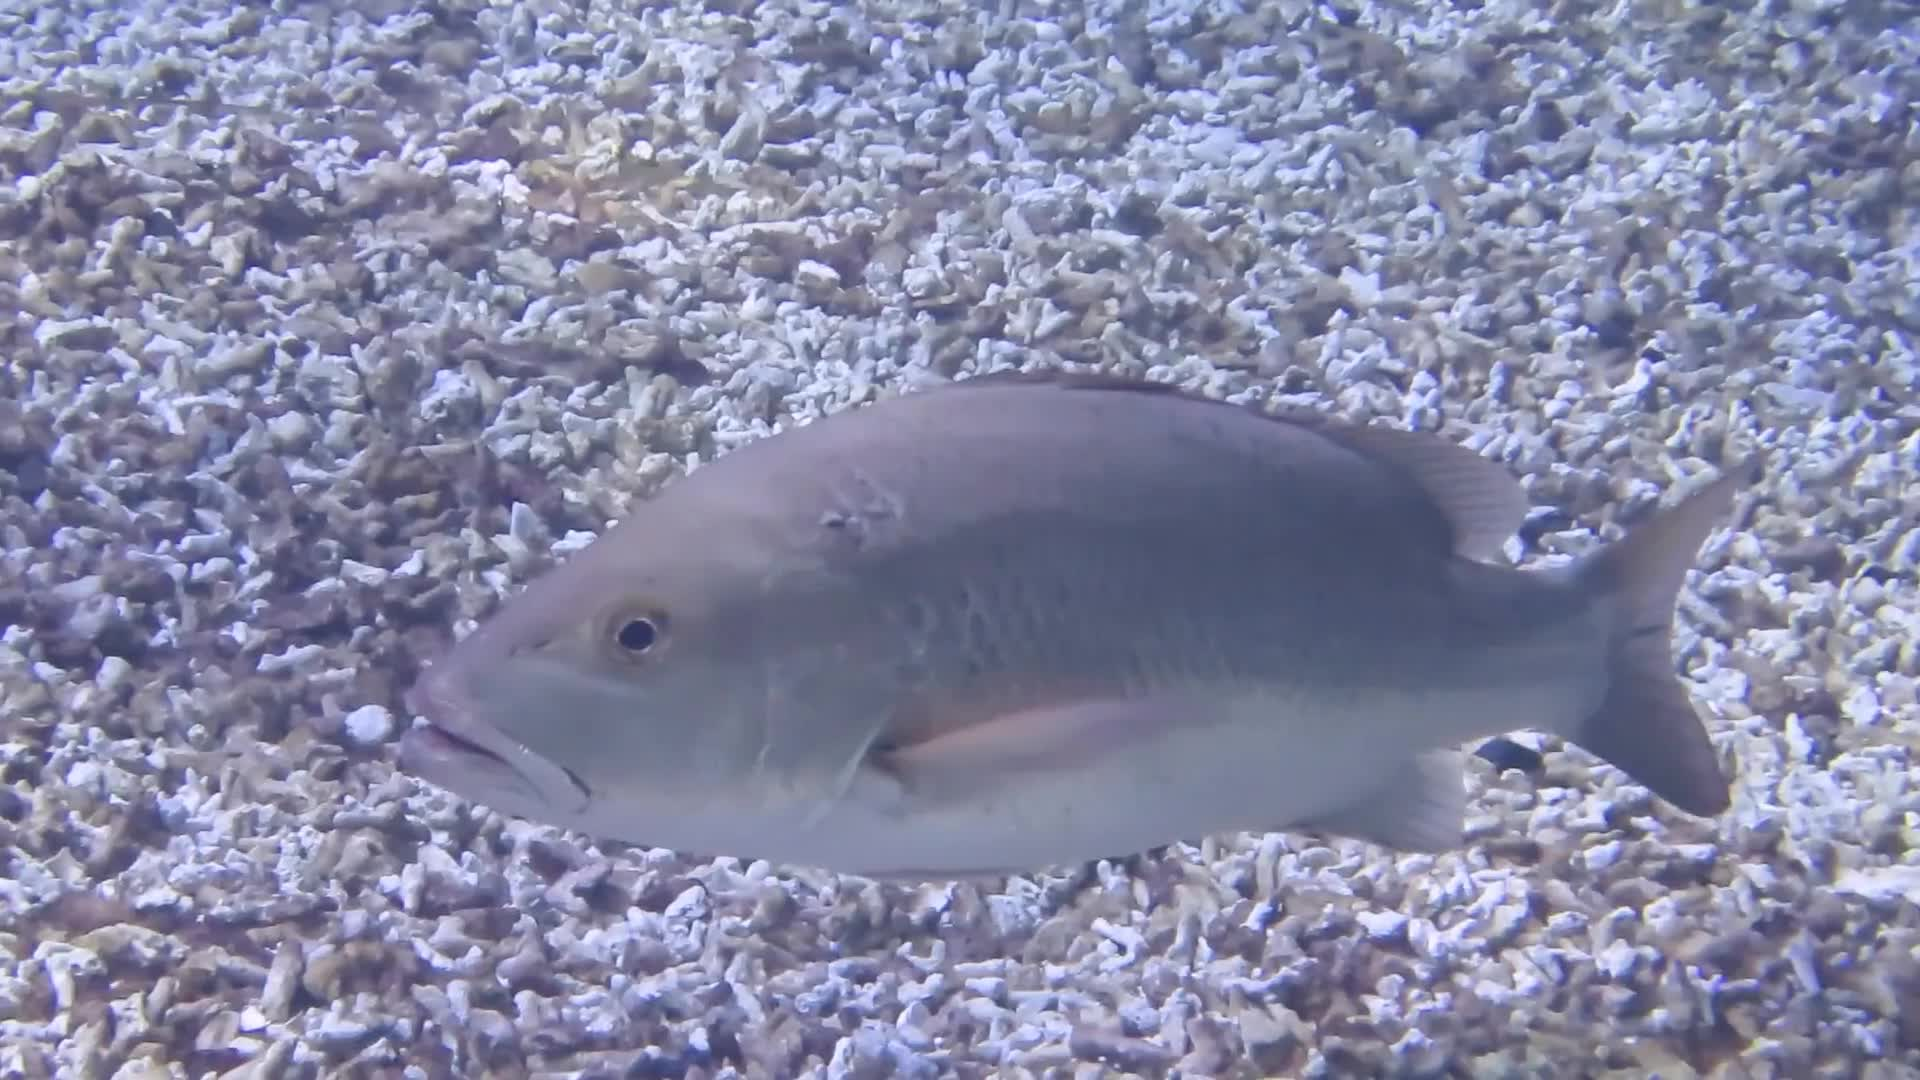Lutjanus argentimaculatus: (410, 355, 1712, 839)
